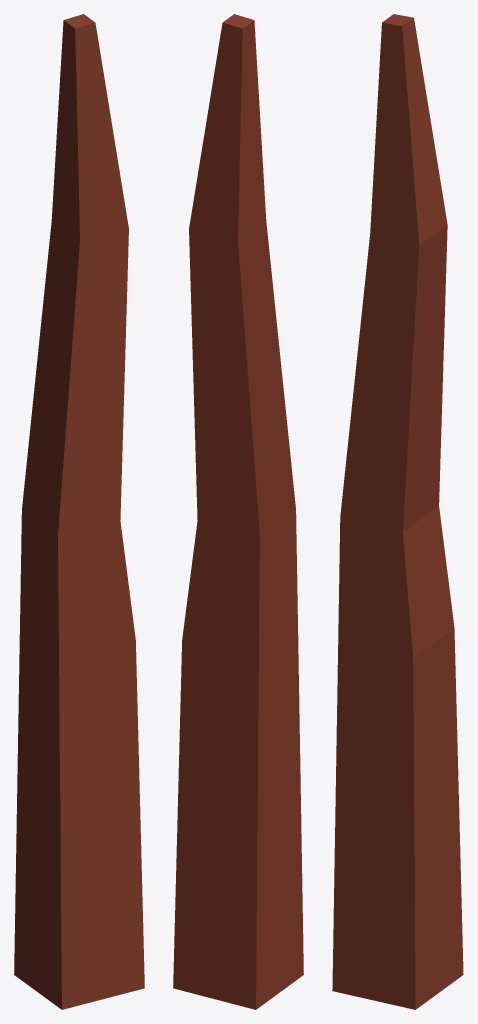
Rendered from tree_6b.fbx.
3 views of the same model, side by side, from view 1: azimuth 30°, elevation 25°; view 2: azimuth 150°, elevation 25°; view 3: azimuth 330°, elevation 25° (orthographic).
Visible parts, largest first — view 1: tree_6b; view 2: tree_6b; view 3: tree_6b.
Part boxes in pixels (bbox=[...]): tree_6b: bbox=[14, 14, 144, 1009]; tree_6b: bbox=[173, 14, 303, 1009]; tree_6b: bbox=[332, 14, 463, 1009].
Bounding box in the file's own units: 49.99 × 554 × 50.
